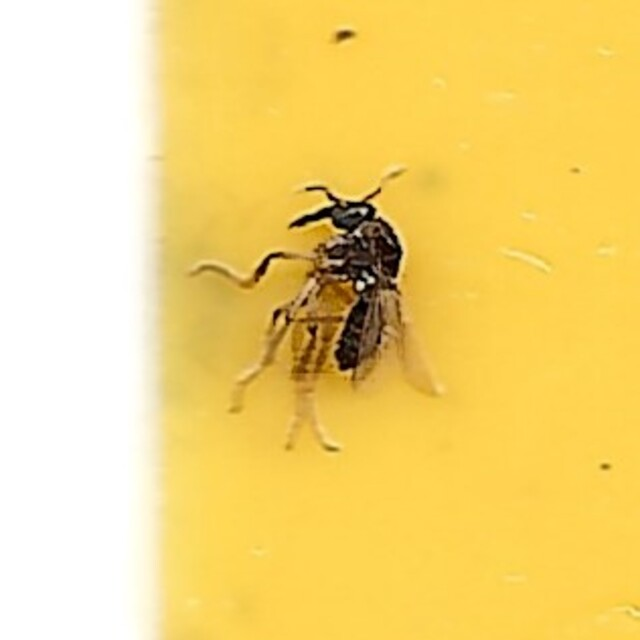Brachycera: (203, 184, 437, 456)
